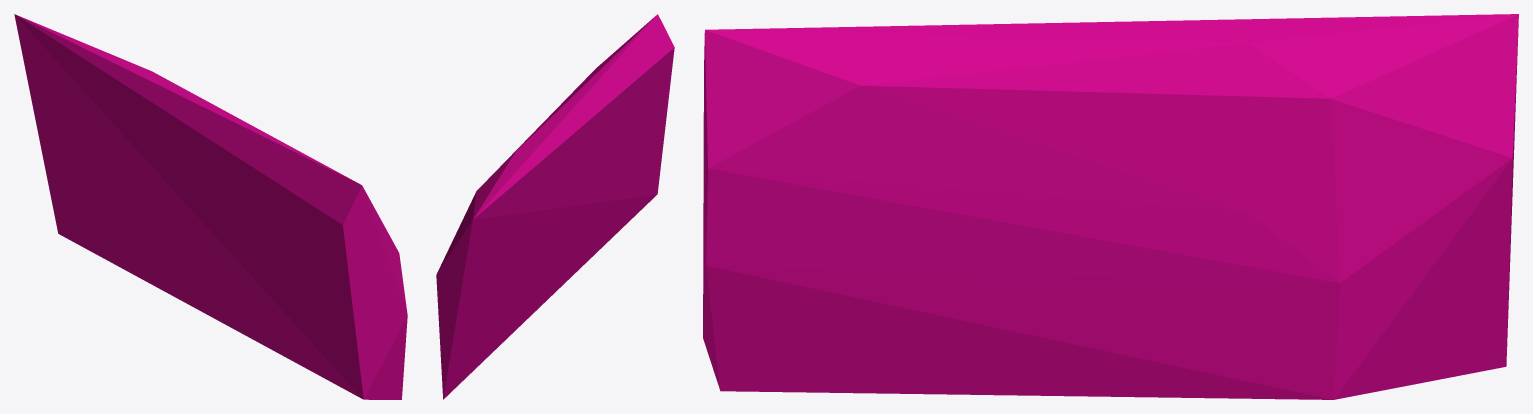
The model's file is shoulder-roll-housing_convex_piece_005.obj.
The picture shows the model from 3 angles, left to right: view 1: azimuth 30°, elevation 25°; view 2: azimuth 150°, elevation 25°; view 3: azimuth 270°, elevation 25°; orthographic projection. The views are drawn at different scales.
Size of the model in its own units: 0.0169 by 0.0361 by 0.0752.
